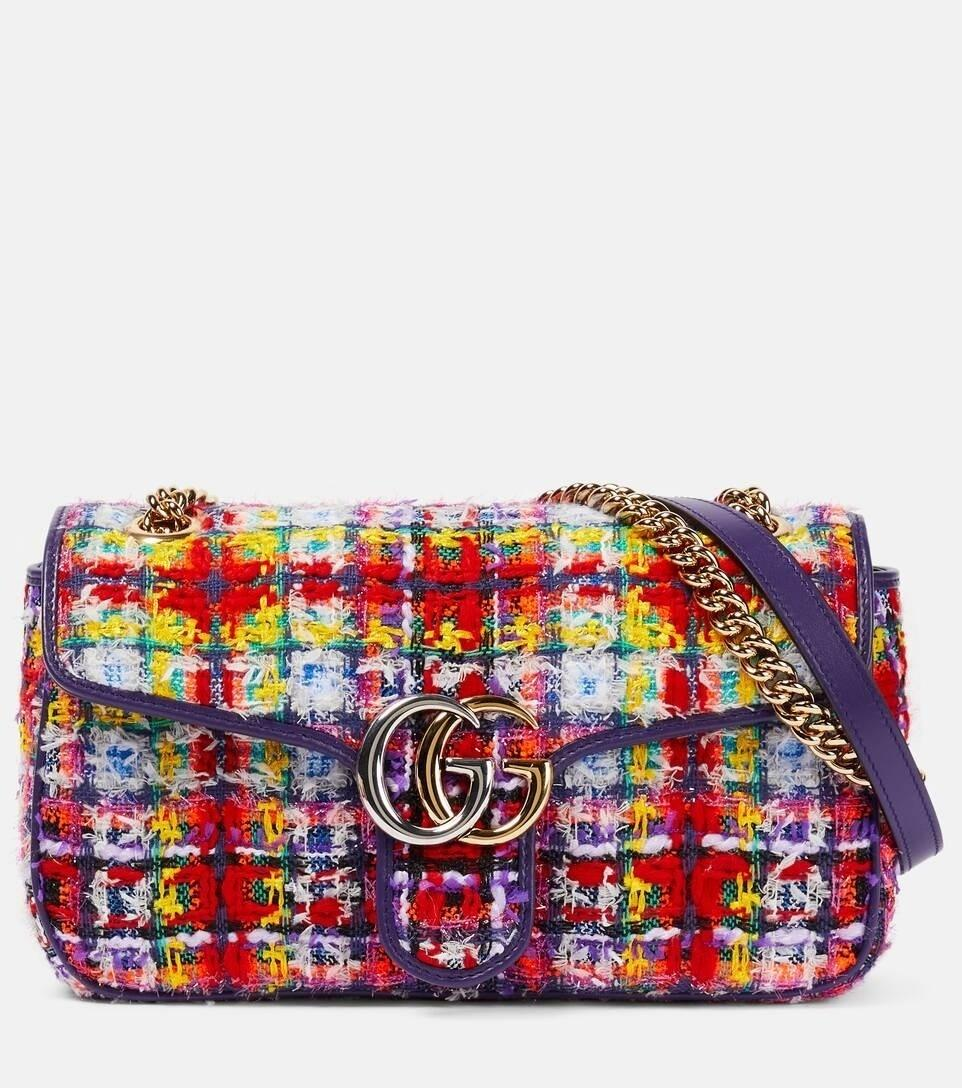GUCCI: (356, 693, 554, 846)
